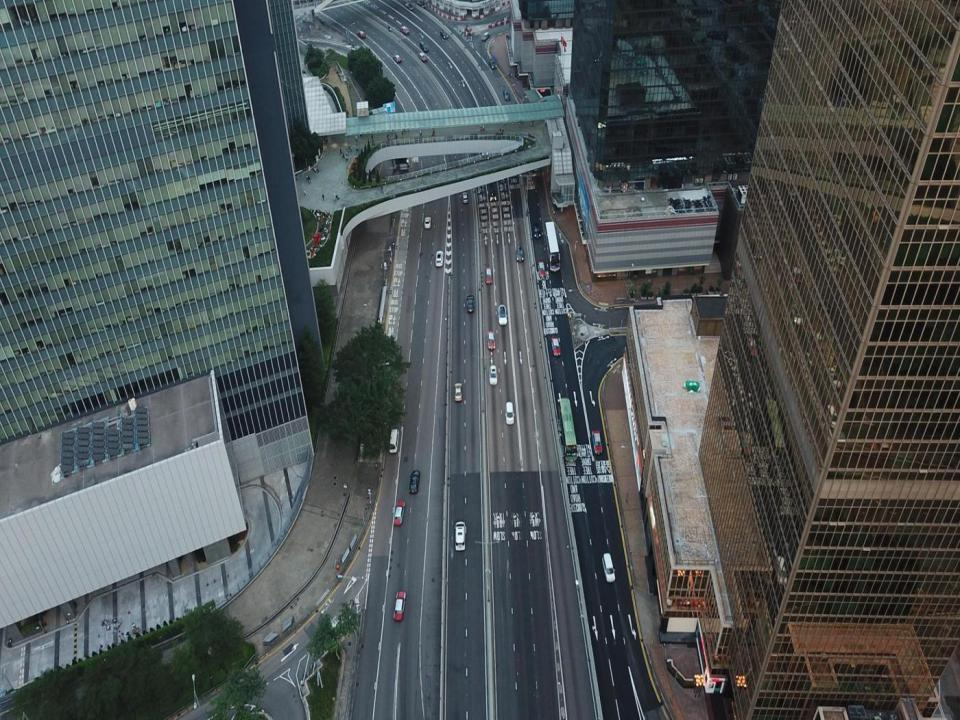bus: (558, 398, 578, 460), (545, 221, 560, 271)
car: (393, 591, 406, 621), (455, 521, 466, 552), (408, 470, 420, 494), (394, 500, 405, 525), (497, 304, 508, 326), (592, 430, 602, 454), (504, 401, 513, 425), (551, 336, 560, 356), (487, 330, 495, 351), (454, 382, 462, 402), (489, 365, 497, 384), (466, 295, 474, 314), (516, 245, 524, 262), (435, 249, 443, 266), (530, 155, 538, 171), (538, 260, 545, 277), (486, 268, 493, 284), (417, 51, 426, 62), (424, 216, 431, 229), (534, 223, 540, 238), (420, 41, 428, 51), (462, 187, 467, 203), (488, 58, 496, 68), (482, 31, 490, 41), (400, 25, 408, 34), (440, 30, 448, 39), (503, 90, 510, 100), (358, 30, 366, 38), (418, 1, 426, 9), (394, 53, 401, 61), (406, 3, 413, 10)
van: (602, 552, 615, 582), (389, 428, 399, 453), (489, 182, 496, 201)
